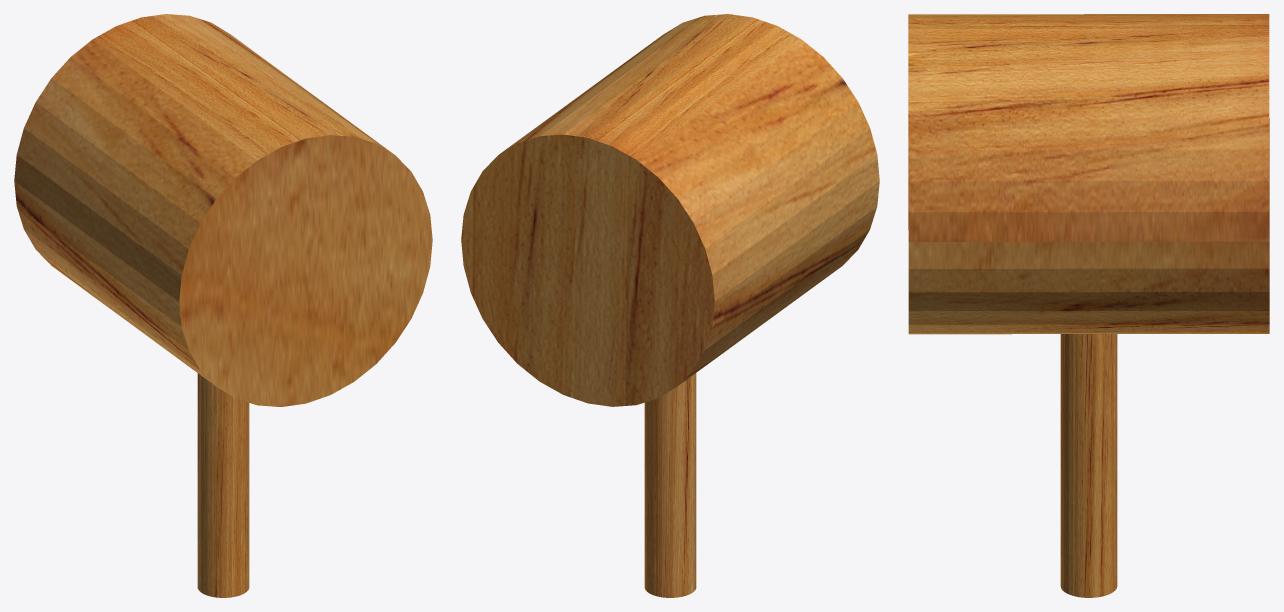
File: hammer.gltf
The picture shows the model from 3 angles, left to right: view 1: azimuth 30°, elevation 25°; view 2: azimuth 150°, elevation 25°; view 3: azimuth 270°, elevation 25°; orthographic projection. The views are drawn at different scales.
Visible parts, largest first — view 1: Cylinder; view 2: Cylinder; view 3: Cylinder.
Part boxes in pixels (bbox=[...]): Cylinder: bbox=[14, 14, 432, 597]; Cylinder: bbox=[461, 14, 879, 597]; Cylinder: bbox=[908, 14, 1269, 597].
Bounding box in the file's own units: 1.53 × 2.94 × 1.73.
Materials: 1 (1 with a texture image).
